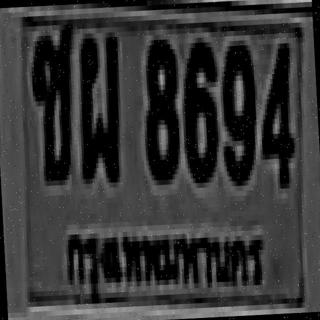A10: (28, 23, 80, 185)
A28: (75, 31, 124, 183)
N04: (257, 41, 296, 188)
N06: (181, 40, 221, 182)
N08: (141, 39, 182, 186)
N09: (219, 41, 258, 183)
P04: (57, 212, 269, 312)
